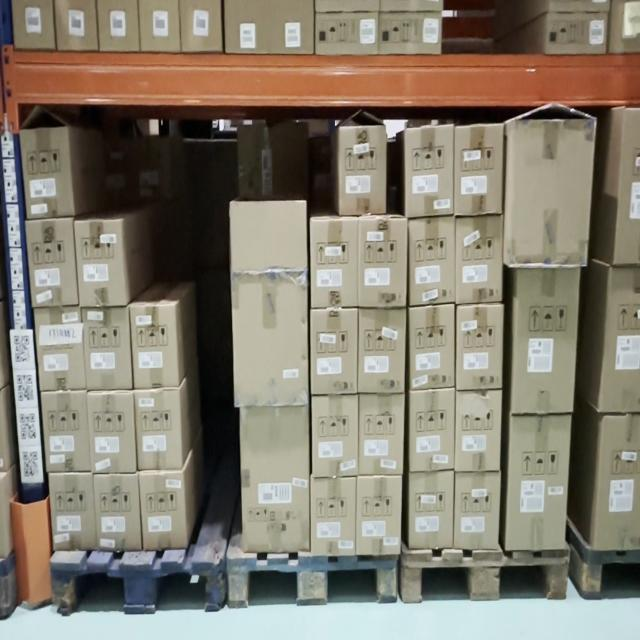box: (510, 122, 590, 263), (232, 270, 309, 404), (240, 410, 309, 552), (515, 265, 581, 411), (504, 416, 571, 550), (27, 218, 80, 308), (75, 217, 127, 308), (20, 129, 74, 216), (454, 215, 505, 304), (359, 216, 409, 303), (406, 127, 452, 220), (337, 126, 387, 211), (312, 218, 359, 308), (32, 312, 85, 390), (455, 387, 504, 470), (40, 394, 91, 473), (82, 307, 132, 386), (456, 130, 502, 214), (359, 310, 405, 394), (131, 306, 179, 386), (311, 395, 359, 473), (134, 388, 180, 468), (94, 473, 141, 551), (313, 311, 357, 394), (48, 474, 97, 548), (458, 308, 504, 386), (140, 472, 186, 550), (358, 477, 399, 557), (410, 223, 452, 301), (359, 397, 401, 474), (411, 311, 454, 385), (312, 479, 355, 551), (413, 392, 456, 463), (406, 478, 448, 548), (458, 479, 501, 543)
